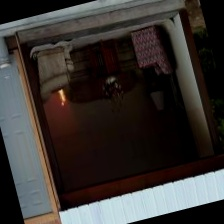fire: (50, 84, 74, 114)
